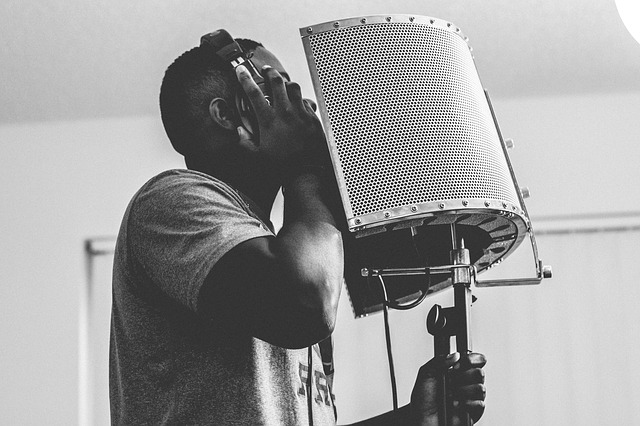headphones: (201, 29, 275, 140)
